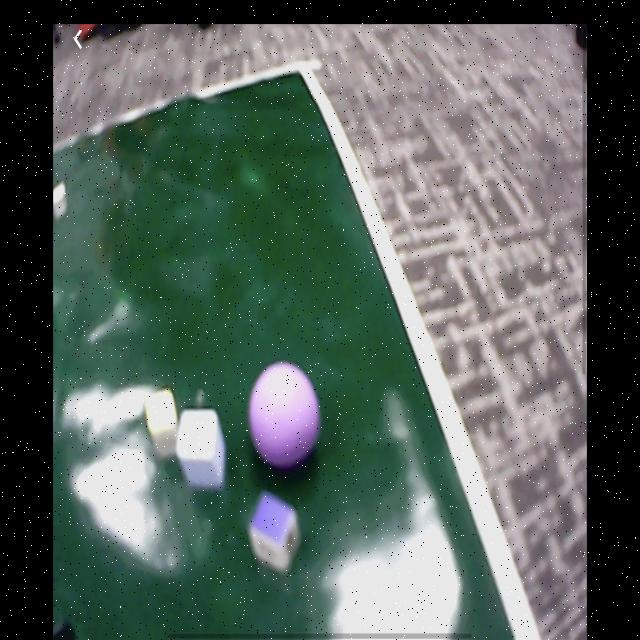ball: (249, 358, 321, 466)
